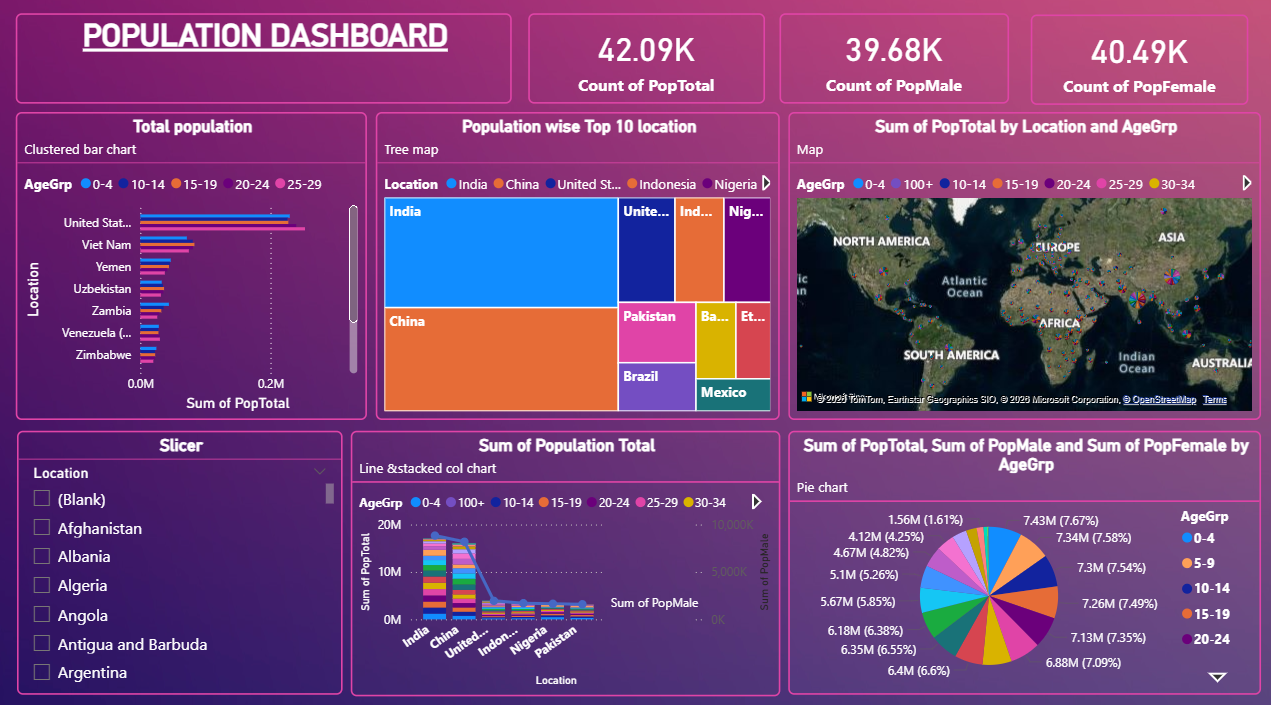

What the dashboard file says about the page in this screenshot:
{"tool":"powerbi","page":{"name":"Page 1","canvas":[1280,720],"ordinal":0},"visuals":[{"type":"lineStackedColumnComboChart","title":"Sum of Population Total ","fields":{"Category":["Query1.Location"],"Y":["Sum(Query1.PopTotal)"],"Y2":["Sum(Query1.PopMale)"],"Series":["Query1.AgeGrp"]},"box":[353.5,444,429.5,265.4],"z":0},{"type":"pieChart","title":"Sum of PopTotal, Sum of PopMale and Sum of PopFemale by AgeGrp","fields":{"Category":["Query1.AgeGrp"],"Y":["Sum(Query1.PopTotal)"]},"box":[791.4,444,472.9,264.2],"z":1000},{"type":"clusteredBarChart","title":"Total population","fields":{"Category":["Query1.Location"],"Y":["Sum(Query1.PopTotal)"],"Series":["Query1.AgeGrp"]},"box":[19.3,125.5,351.1,307.6],"z":2000},{"type":"map","title":"Sum of PopTotal by Location and AgeGrp","fields":{"Category":["Query1.Location"],"Series":["Query1.AgeGrp"],"Size":["Sum(Query1.PopTotal)"]},"box":[791.4,125.5,472.9,307.6],"z":3000},{"type":"slicer","title":"Slicer","fields":{"Values":["Query1.Location"]},"box":[19.6,443.9,325.3,264.1],"z":4000},{"type":"treemap","title":"Population wise Top 10 location","fields":{"Group":["Query1.Location"],"Values":["Sum(Query1.PopTotal)"]},"box":[378.8,125.5,404.2,307.6],"z":5000},{"type":"card","fields":{"Values":["Count(Query1.PopTotal)"]},"box":[530.8,26.5,236.5,90.5],"z":6000},{"type":"card","fields":{"Values":["Count(Query1.PopMale)"]},"box":[783,26.5,229.2,90.5],"z":7000},{"type":"card","fields":{"Values":["Count(Query1.PopFemale)"]},"box":[1033.3,26.9,217.7,90.5],"z":8000},{"type":"textbox","title":"POPULATION DASHBOARD","box":[19.3,26.5,495.8,90.5],"z":9000}]}

Visuals, with their boxes in screenshot pixels (x1, y1, x2, y2), scaled from the page's 1280x720 canvas onto the 1271x705 screenshot:
"Sum of Population Total " lineStackedColumnComboChart: pyautogui.locateOnScreen(351, 435, 777, 695)
"Sum of PopTotal, Sum of PopMale and Sum of PopFemale by AgeGrp" pieChart: pyautogui.locateOnScreen(786, 435, 1255, 693)
"Total population" clusteredBarChart: pyautogui.locateOnScreen(19, 123, 368, 424)
"Sum of PopTotal by Location and AgeGrp" map: pyautogui.locateOnScreen(786, 123, 1255, 424)
"Slicer" slicer: pyautogui.locateOnScreen(19, 435, 342, 693)
"Population wise Top 10 location" treemap: pyautogui.locateOnScreen(376, 123, 777, 424)
card - Count(Query1.PopTotal): pyautogui.locateOnScreen(527, 26, 762, 115)
card - Count(Query1.PopMale): pyautogui.locateOnScreen(777, 26, 1005, 115)
card - Count(Query1.PopFemale): pyautogui.locateOnScreen(1026, 26, 1242, 115)
"POPULATION DASHBOARD" textbox: pyautogui.locateOnScreen(19, 26, 511, 115)
